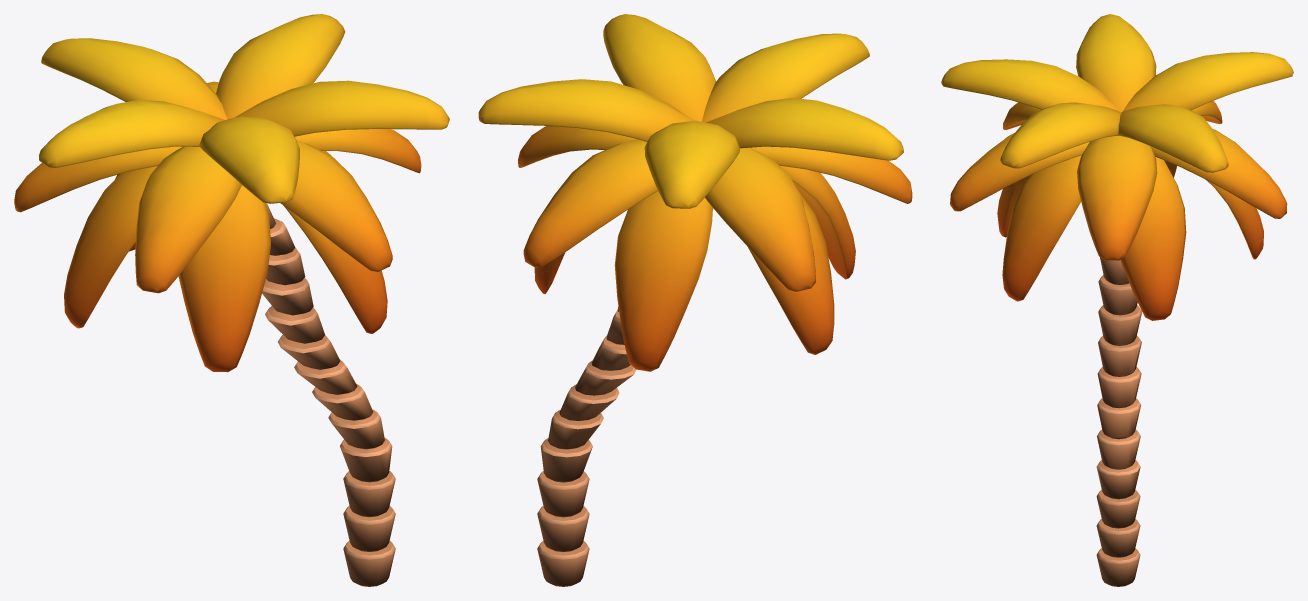
File: lpb_tree_1_b.fbx
The picture shows the model from 3 angles, left to right: view 1: azimuth 30°, elevation 25°; view 2: azimuth 150°, elevation 25°; view 3: azimuth 270°, elevation 25°; orthographic projection. The views are drawn at different scales.
Visible parts, largest first — view 1: ap_tree_1.001; view 2: ap_tree_1.001; view 3: ap_tree_1.001.
Part boxes in pixels (x1,y1,x2,y2): ap_tree_1.001: [14, 14, 449, 586]; ap_tree_1.001: [478, 14, 912, 586]; ap_tree_1.001: [941, 14, 1293, 586].
Bounding box in the file's own units: 404 × 545 × 390.
